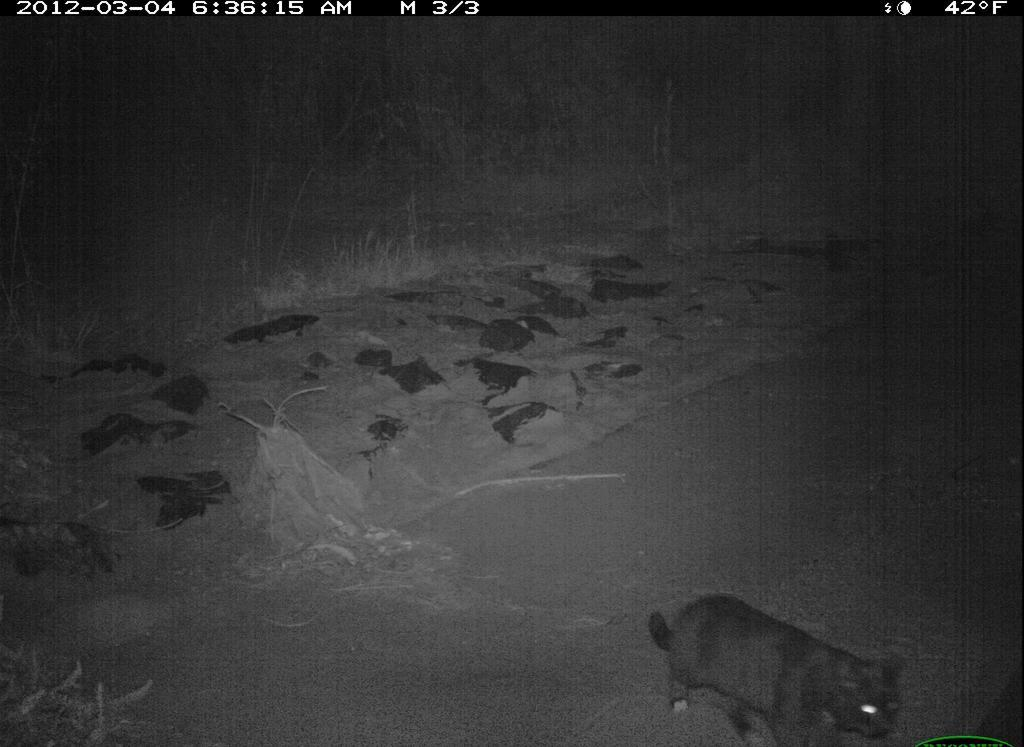cat: (648, 565, 907, 747)
